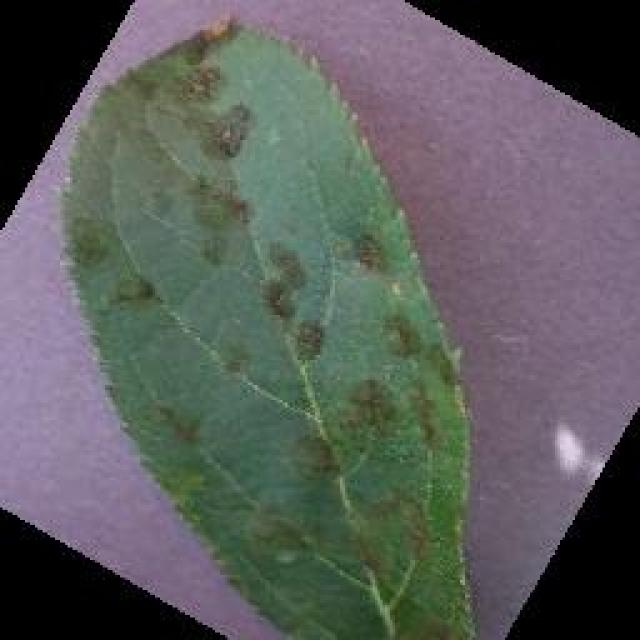apple scab disease: (55, 12, 480, 638)
